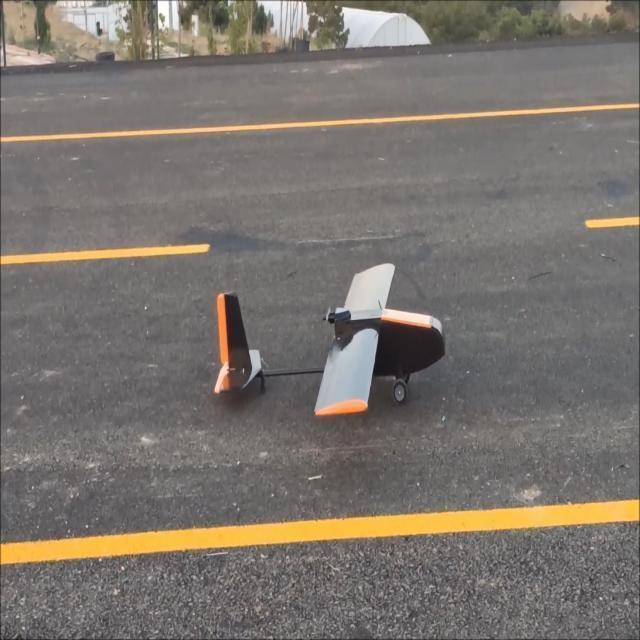Airplane: (207, 251, 452, 423)
